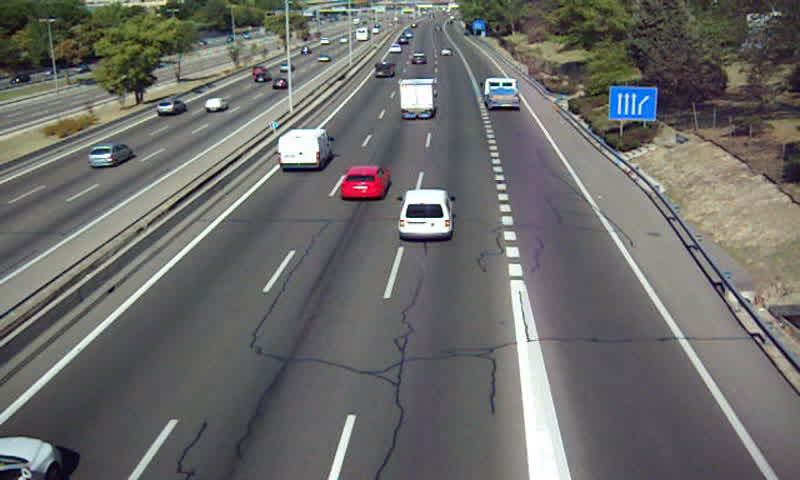car: (396, 188, 453, 238), (338, 166, 391, 200), (410, 52, 427, 66)
small-truck: (398, 78, 436, 118), (483, 76, 519, 110)
van: (276, 129, 331, 168), (373, 60, 395, 80)
